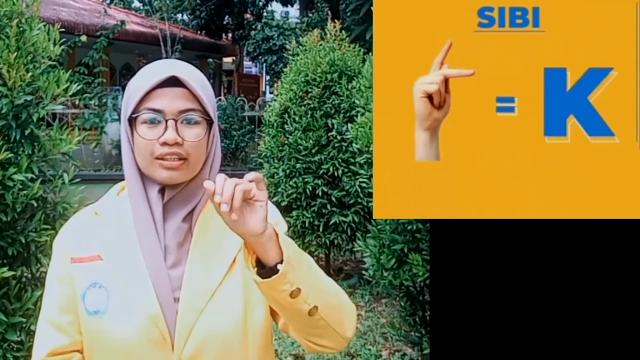K: (410, 37, 480, 170)
